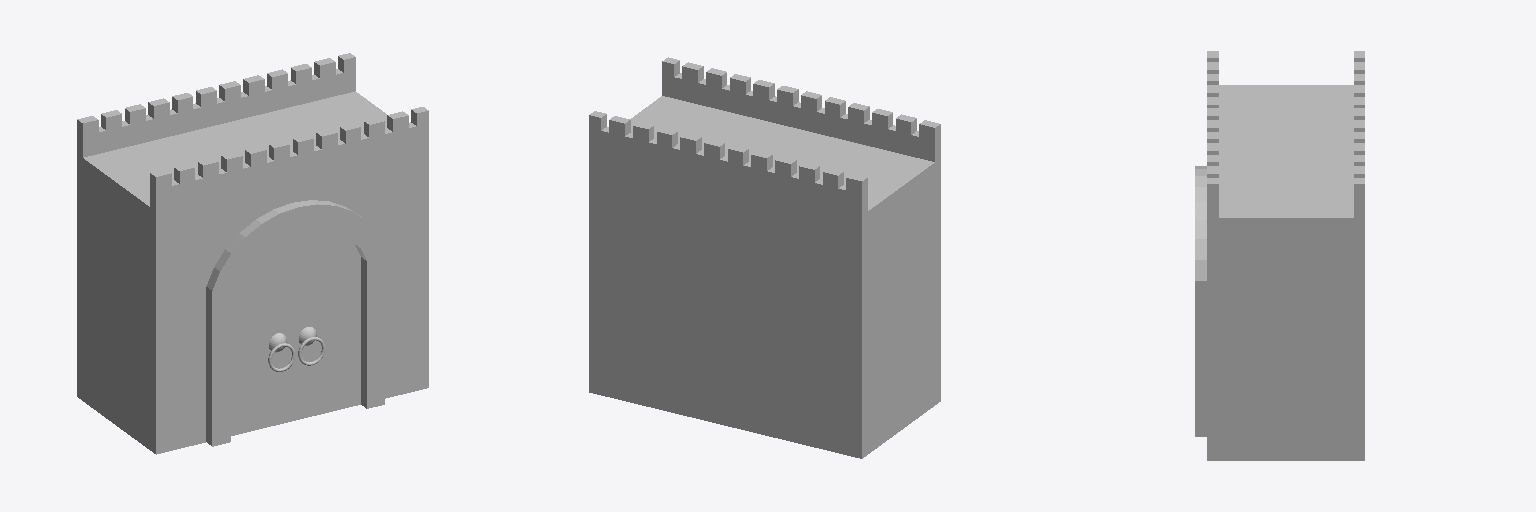
The model's file is piece2.obj.
The picture shows the model from 3 angles: view 1: azimuth 30°, elevation 25°; view 2: azimuth 150°, elevation 25°; view 3: azimuth 270°, elevation 25°; orthographic projection.
Parts seen in each view (by area): view 1: Mesh2 Group1 Model, Mesh1 Group2 Group1 Model; view 2: Mesh2 Group1 Model; view 3: Mesh2 Group1 Model, Mesh1 Group2 Group1 Model.
Boxes of the visible parts, x1,y1,x2,y2 form: Mesh2 Group1 Model: [77, 53, 428, 454]; Mesh1 Group2 Group1 Model: [206, 200, 384, 446]; Mesh2 Group1 Model: [589, 57, 940, 458]; Mesh2 Group1 Model: [1207, 51, 1364, 460]; Mesh1 Group2 Group1 Model: [1195, 166, 1206, 436].
Bounding box in the file's own units: 6 × 5.83 × 3.23.